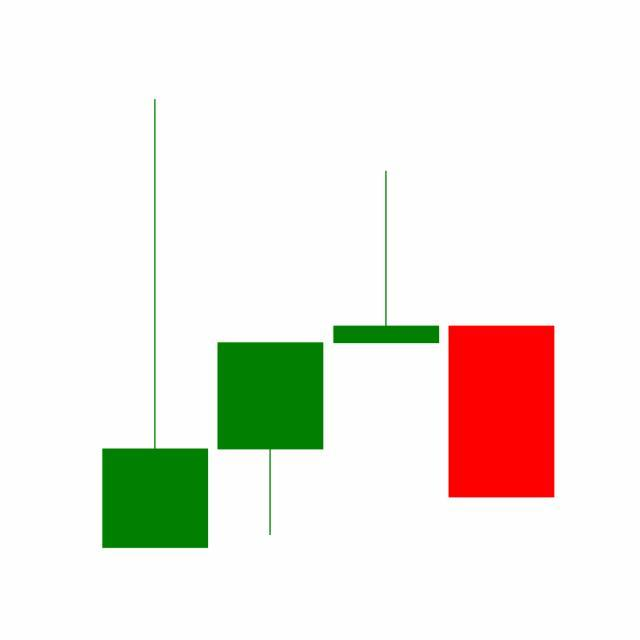Gravestone Doji: (329, 170, 445, 345)
